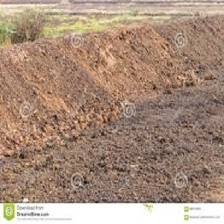loamy_soil: (14, 14, 201, 183)
